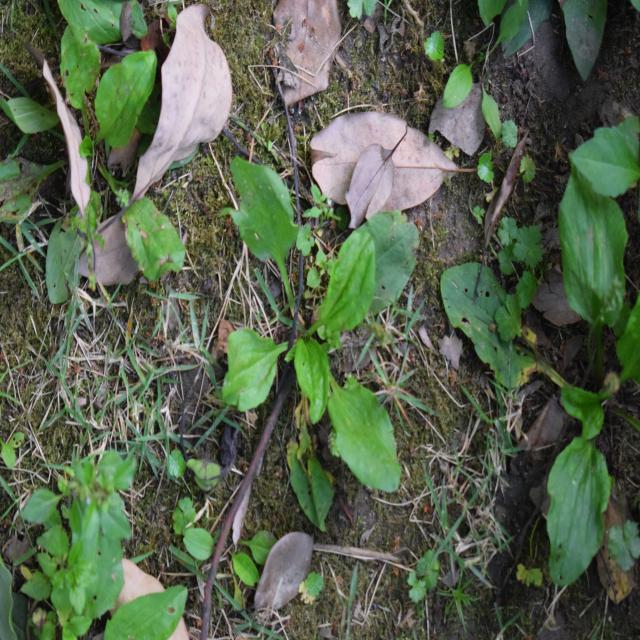plantain: (200, 173, 432, 525)
